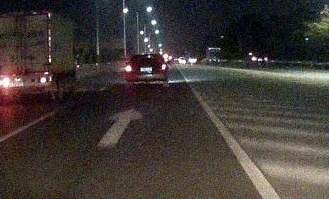L_light: (0, 78, 12, 85), (126, 66, 132, 71)
R_light: (37, 77, 49, 83), (161, 64, 166, 70)
T_light: (17, 15, 26, 19), (143, 56, 149, 58)
day-left: (0, 10, 51, 100), (126, 54, 167, 86)
